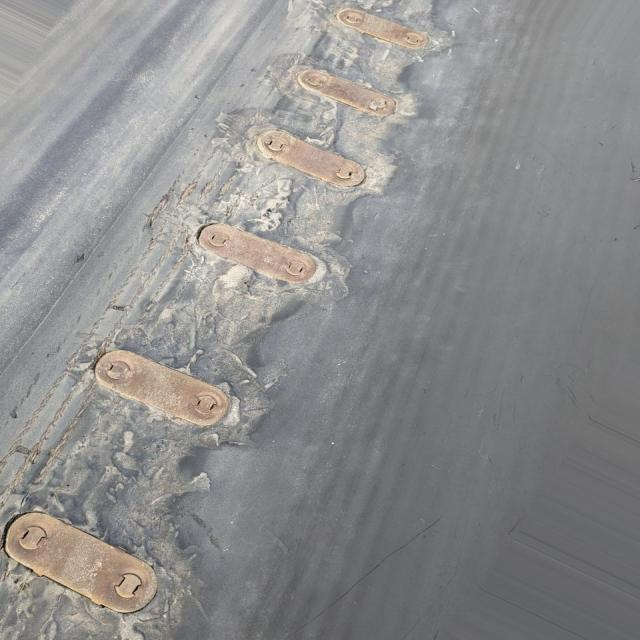patch work: (0, 0, 460, 640)
